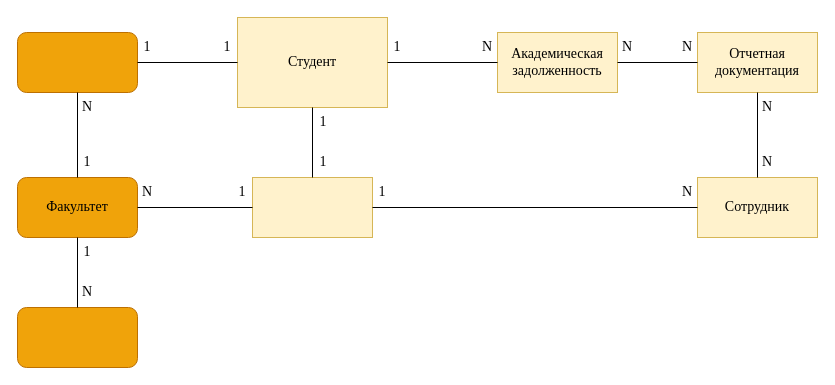
Some shapes in this 835 by 385 pixel diagram are drawn without their labels. Each missing label, with the box of its shape:
Группа: (16, 32, 138, 92)
Направление подготовки: (16, 306, 138, 368)
Университет: (252, 176, 372, 238)
